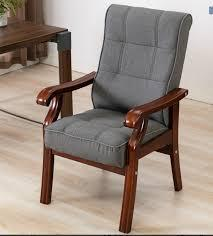chair: (23, 6, 197, 222)
